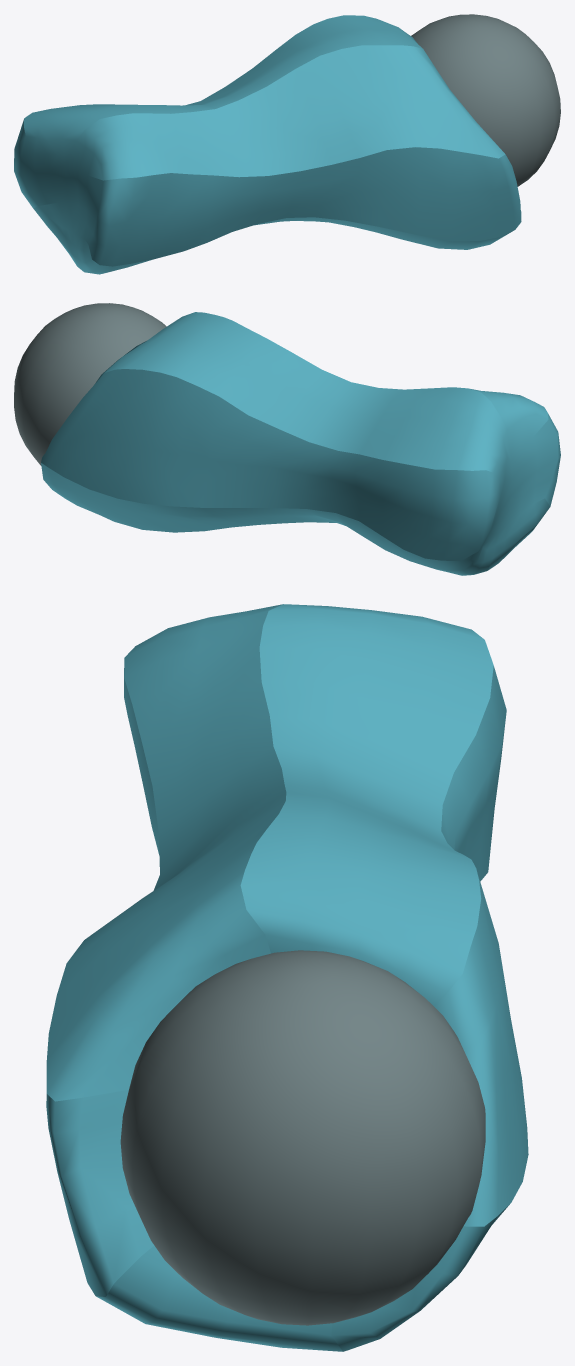
Rendered from arm.r.gltf.
3 views of the same model, one above another, from view 1: azimuth 30°, elevation 25°; view 2: azimuth 150°, elevation 25°; view 3: azimuth 270°, elevation 25° (orthographic). The views are drawn at different scales.
Visible parts, largest first — view 1: arm.r; view 2: arm.r; view 3: arm.r.
Part boxes in pixels (bbox=[...]): arm.r: bbox=[14, 14, 560, 274]; arm.r: bbox=[14, 303, 560, 575]; arm.r: bbox=[46, 604, 528, 1351].
Size of the model in its own units: 0.6611 by 0.265 by 0.2783.
